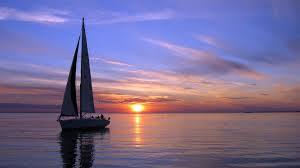boat: (55, 17, 112, 131)
